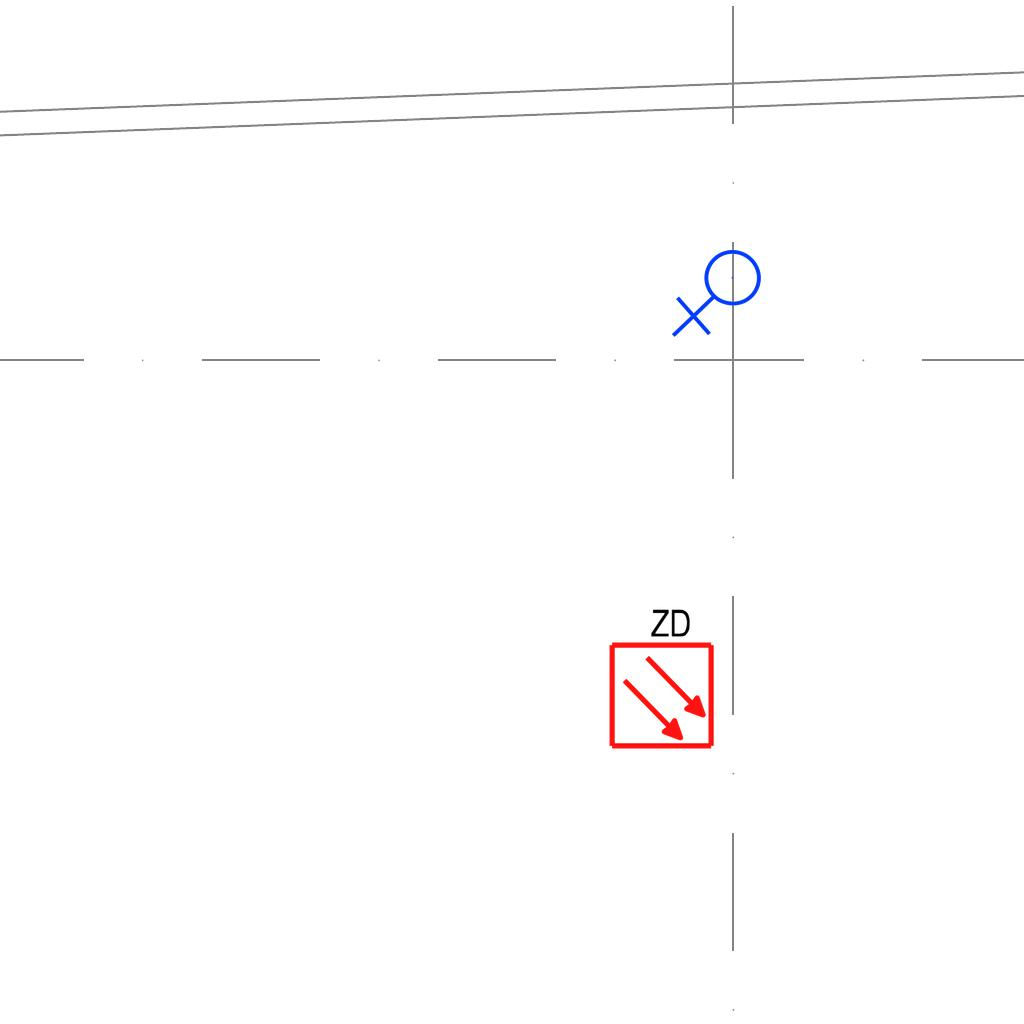Elektroanschluss_allgemein_230V_Geraeteanschlussdose_230V: (671, 248, 770, 342)
ZD_Melder_in_Zwischendecke_mit_Revisionsoeffnung_mind_40_x_40_cm: (603, 602, 717, 751)
